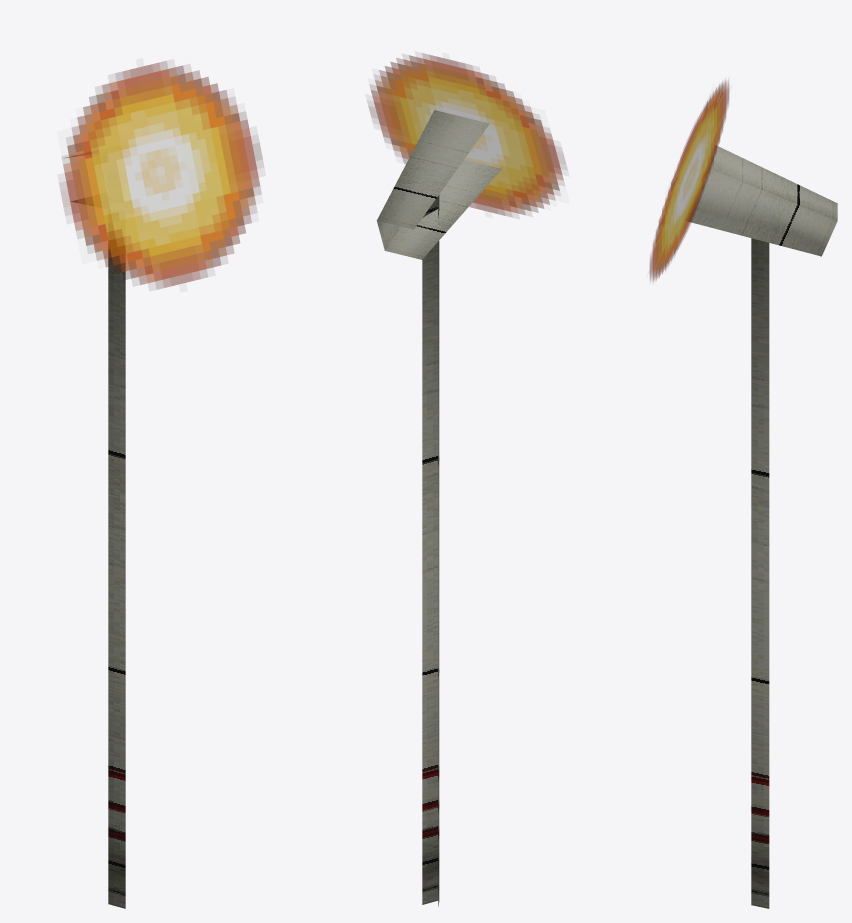
File: stage-flor-p1-80.glb
3 views of the same model, side by side, from view 1: azimuth 30°, elevation 25°; view 2: azimuth 150°, elevation 25°; view 3: azimuth 270°, elevation 25° (orthographic). The views are drawn at different scales.
Size of the model in its own units: 2.23 by 7.85 by 1.68.
2 materials, 2 textured.
